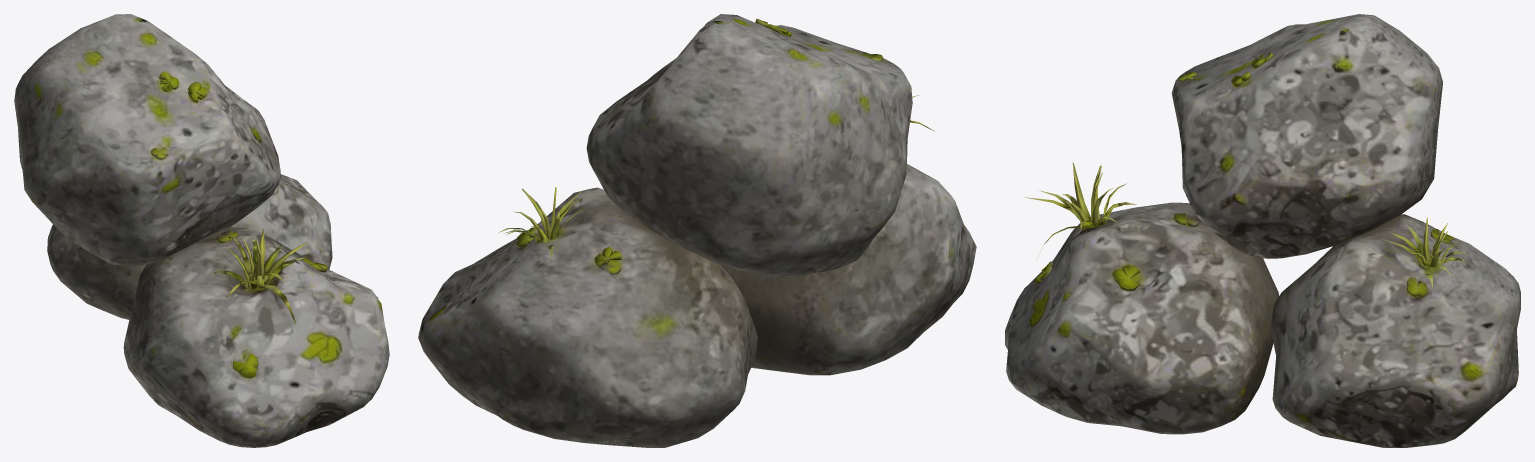
Rendered from rock.glb.
The picture shows the model from 3 angles, left to right: view 1: azimuth 30°, elevation 25°; view 2: azimuth 150°, elevation 25°; view 3: azimuth 270°, elevation 25°; orthographic projection. The views are drawn at different scales.
Visible parts, largest first — view 1: tripo_node_d5b8e1ee-b363-43d5-928e-2d0fd0cf3c72; view 2: tripo_node_d5b8e1ee-b363-43d5-928e-2d0fd0cf3c72; view 3: tripo_node_d5b8e1ee-b363-43d5-928e-2d0fd0cf3c72.
Boxes of the visible parts, bbox=[...] form: tripo_node_d5b8e1ee-b363-43d5-928e-2d0fd0cf3c72: bbox=[14, 14, 389, 447]; tripo_node_d5b8e1ee-b363-43d5-928e-2d0fd0cf3c72: bbox=[418, 14, 976, 447]; tripo_node_d5b8e1ee-b363-43d5-928e-2d0fd0cf3c72: bbox=[1005, 14, 1520, 447].
Size of the model in its own units: 0.7636 by 0.7363 by 0.998.
1 material, 1 textured.
